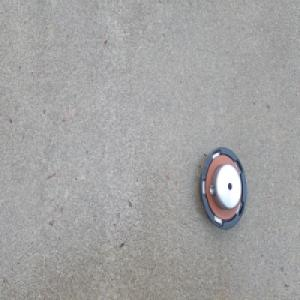FuelCap: (198, 147, 247, 232)
